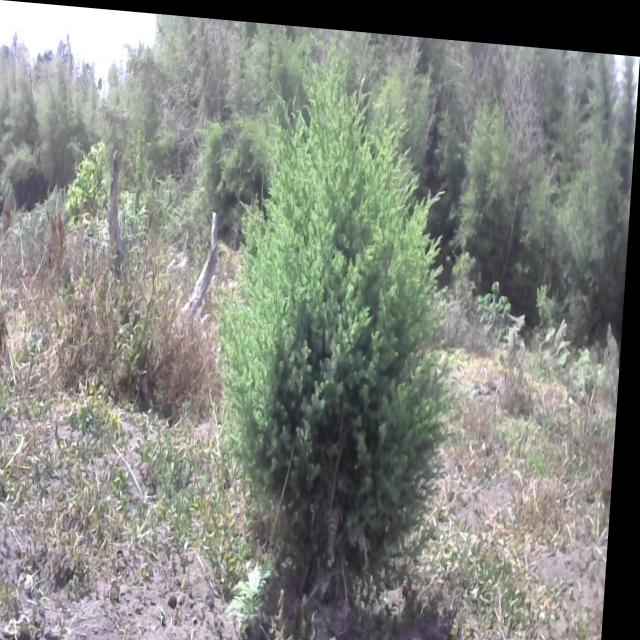cedrus: (205, 45, 492, 626)
